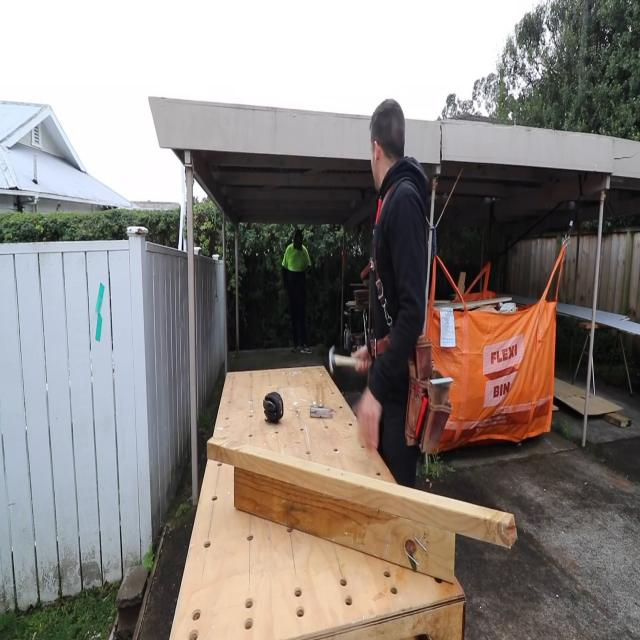hammer: (329, 345, 365, 375), (310, 384, 333, 418)
